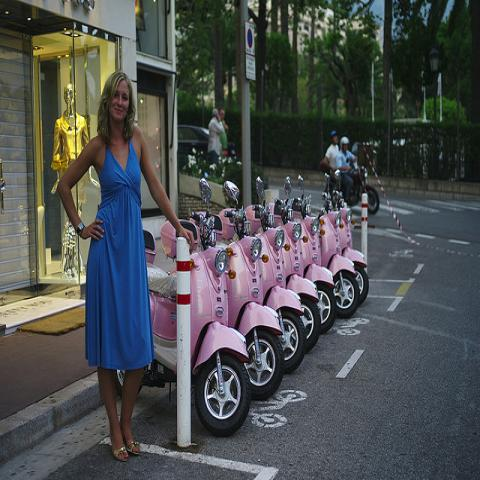car: (178, 127, 210, 158)
motorcycle: (114, 228, 253, 437), (159, 180, 284, 403), (246, 170, 304, 371), (271, 176, 322, 354), (299, 178, 357, 311), (296, 216, 338, 334), (348, 167, 380, 214), (340, 209, 366, 262)
